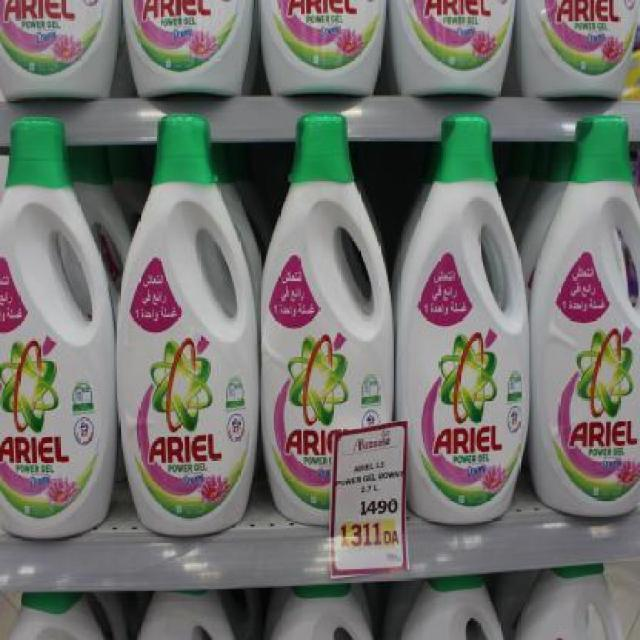Detergent: (116, 99, 252, 538), (392, 102, 530, 520), (253, 109, 395, 511), (0, 112, 117, 540)
